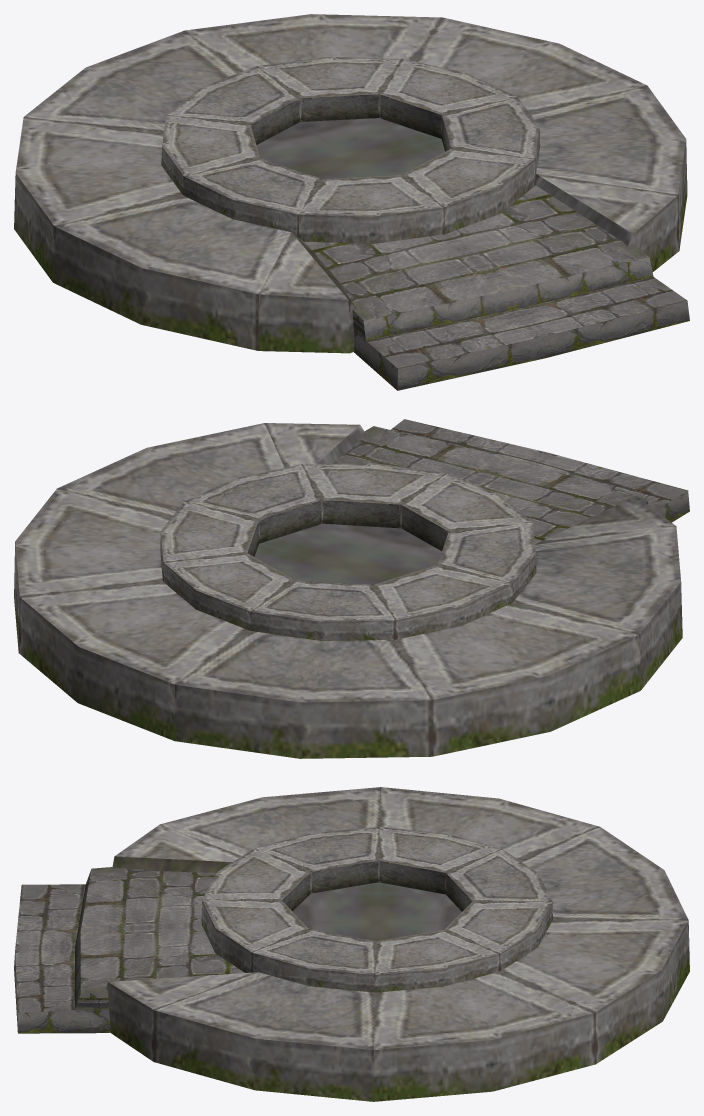
File: 7004_Item_wujian_2.FBX
The picture shows the model from 3 angles, top to bottom: view 1: azimuth 30°, elevation 25°; view 2: azimuth 150°, elevation 25°; view 3: azimuth 270°, elevation 25°; orthographic projection. The views are drawn at different scales.
Visible parts, largest first — view 1: 7004_Item_wujian_2; view 2: 7004_Item_wujian_2; view 3: 7004_Item_wujian_2.
Boxes of the visible parts, <box> form: 7004_Item_wujian_2: <box>14,14,689,390</box>; 7004_Item_wujian_2: <box>14,419,689,758</box>; 7004_Item_wujian_2: <box>14,787,689,1101</box>.
Bounding box in the file's own units: 435 × 470 × 53.03.
